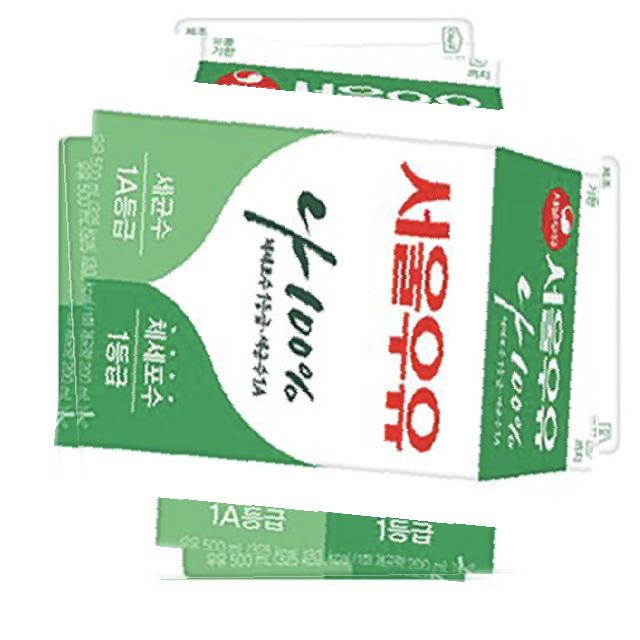biodegradable: (57, 38, 599, 580)
